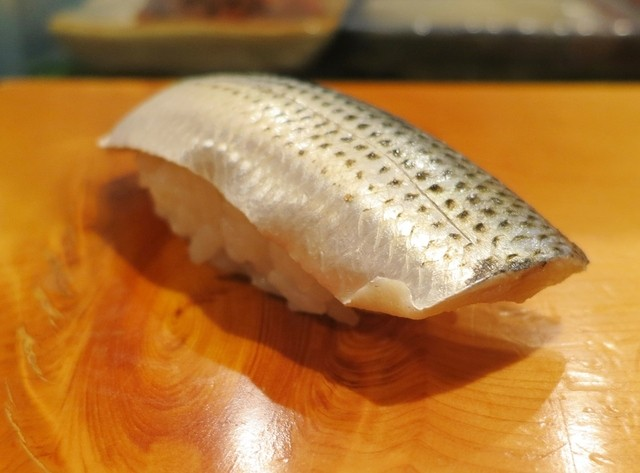spotted-shad: (96, 67, 598, 340)
